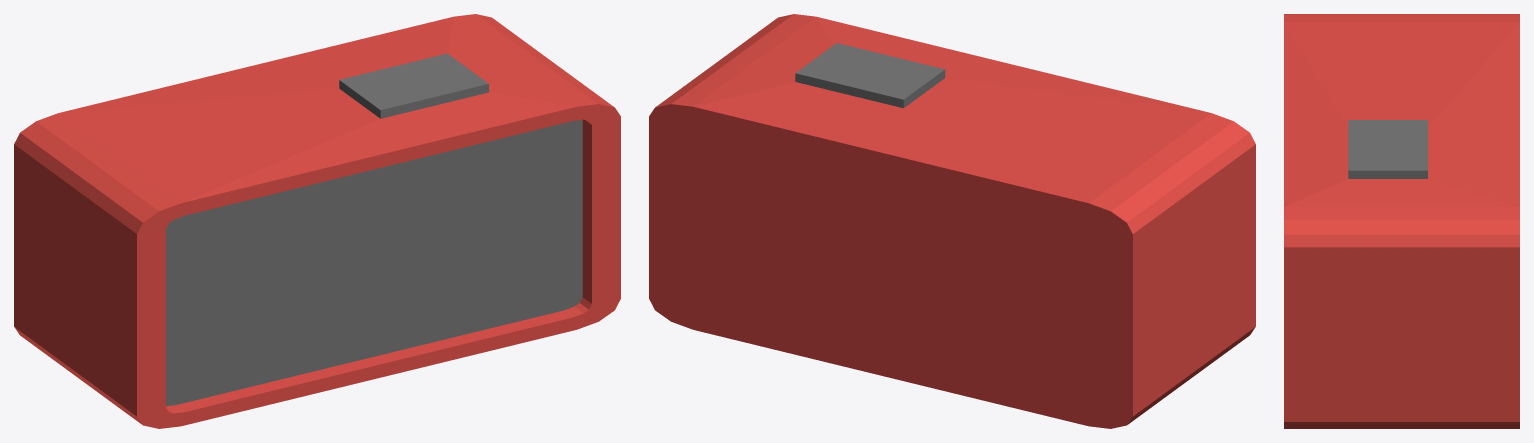
The model's file is alarmclock.fbx.
3 renders of one model, left to right at view 1: azimuth 30°, elevation 25°; view 2: azimuth 150°, elevation 25°; view 3: azimuth 270°, elevation 25°, orthographic. The views are drawn at different scales.
Parts seen in each view (by area): view 1: Cube; view 2: Cube; view 3: Cube.
Part boxes in pixels (bbox=[...]): Cube: bbox=[14, 14, 620, 428]; Cube: bbox=[649, 14, 1255, 428]; Cube: bbox=[1284, 14, 1519, 428].
Size of the model in its own units: 454 by 210 by 200.
